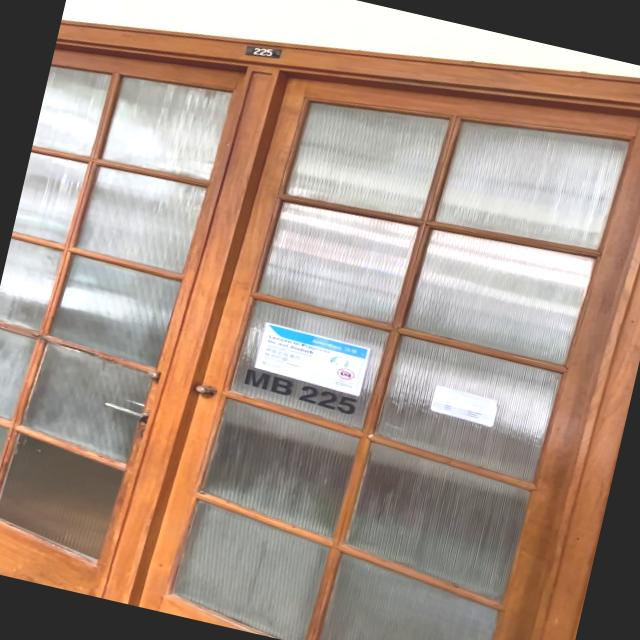room225: (242, 40, 284, 64)
room225Window: (239, 365, 361, 419)
